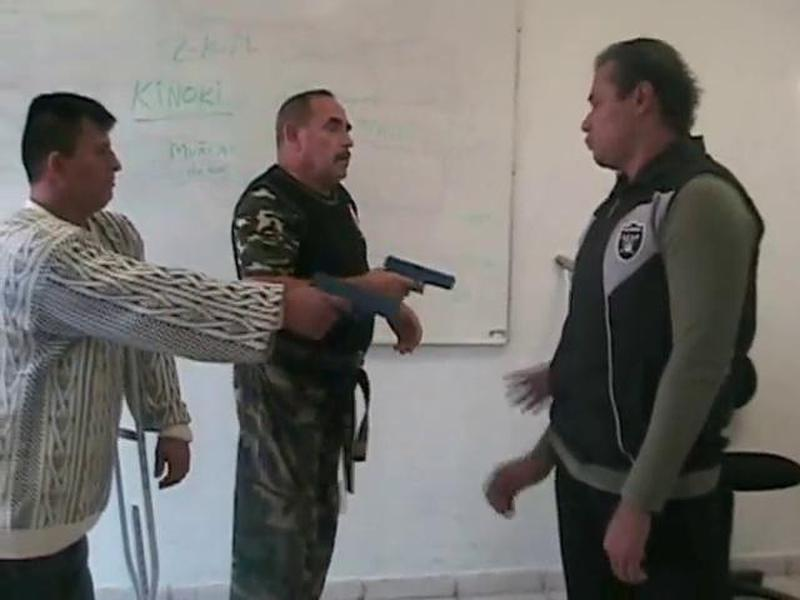Pistola: (356, 251, 471, 332)
